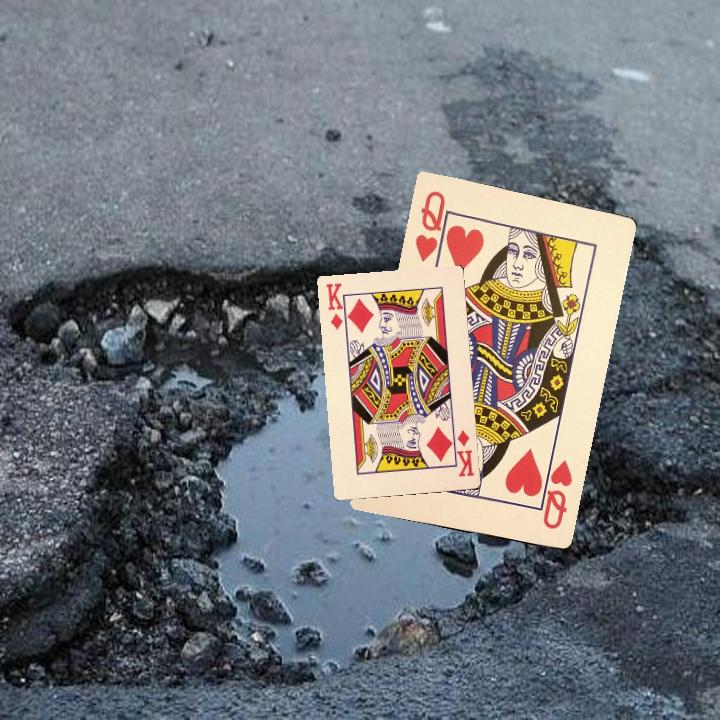Kd: (322, 279, 350, 335), (447, 428, 477, 479)
Qh: (411, 186, 453, 268), (534, 454, 575, 532)
